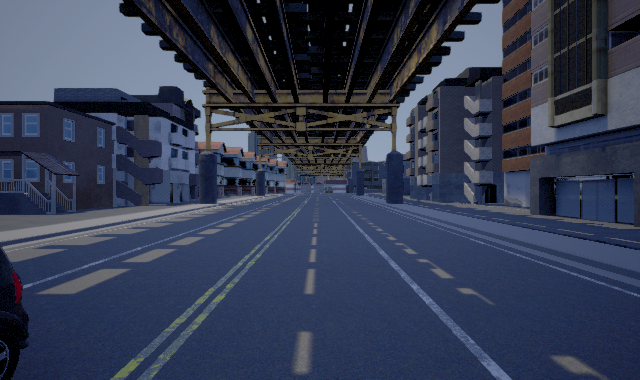vehicle: (0, 246, 30, 380)
